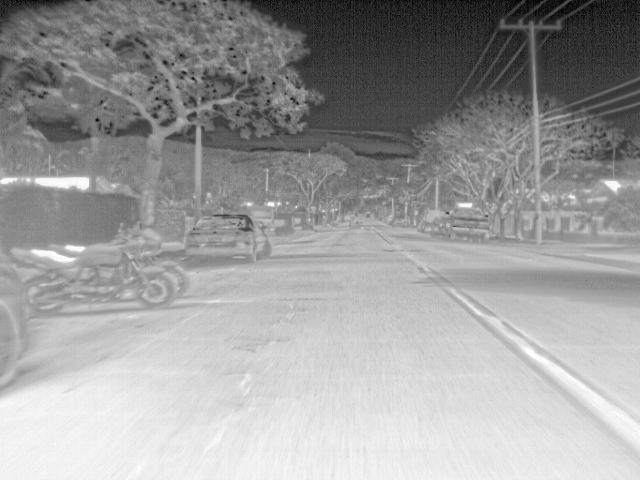car: (185, 213, 272, 264), (1, 262, 30, 388), (444, 206, 492, 243), (430, 216, 445, 235), (349, 216, 365, 230)
